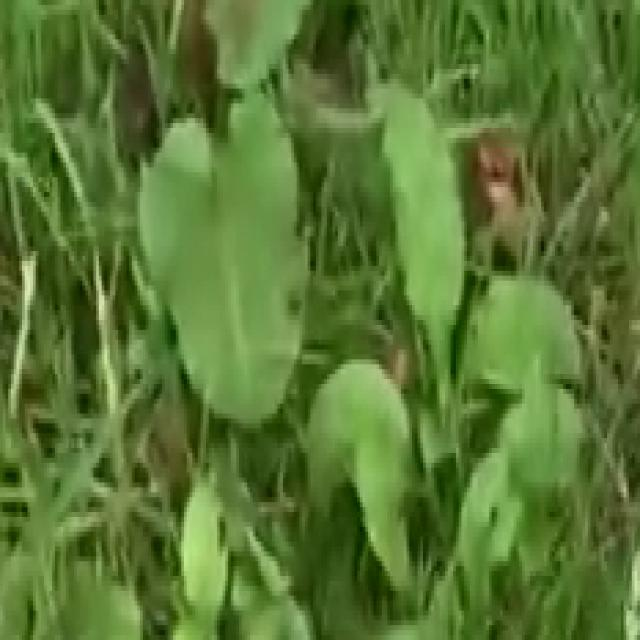organic waste: (302, 143, 582, 640), (109, 0, 376, 354)
